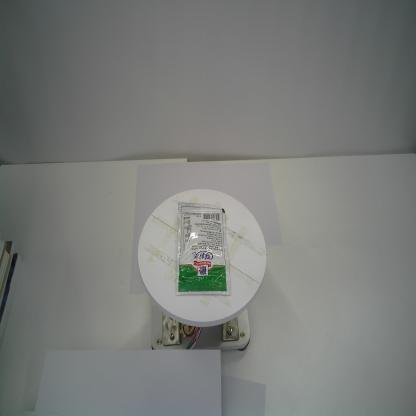Seasoner: (176, 201, 231, 296)
